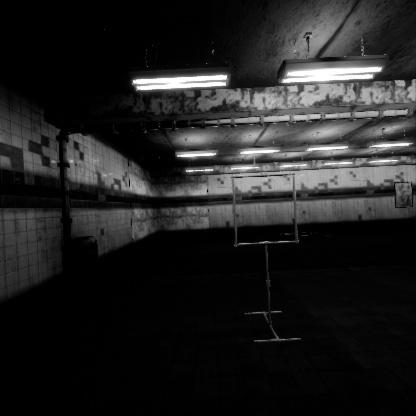gate: (231, 169, 304, 243)
